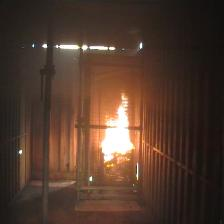fire: (103, 95, 135, 162)
